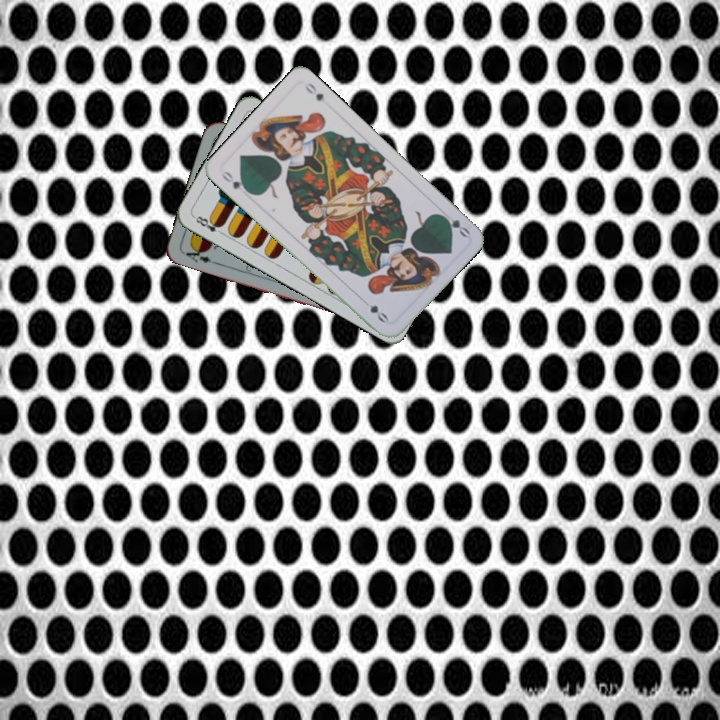E8: (190, 212, 227, 238)
EA: (179, 242, 213, 266)
GO: (436, 207, 472, 240), (217, 167, 253, 196)
